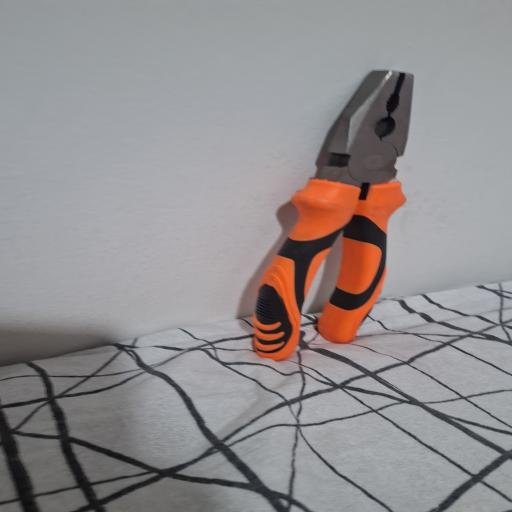alicate: (249, 68, 423, 360)
